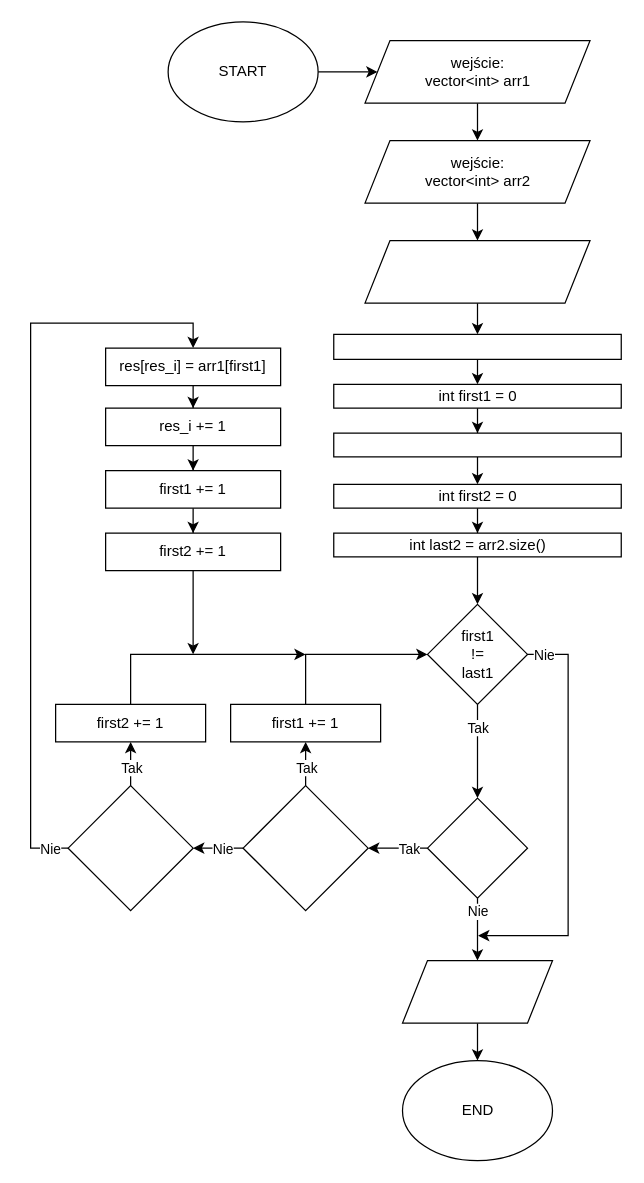
Some shapes in this 644 by 1183 pixel diagram are drawn without their labels. The shapes that lost their labels are listed below. From the top down, each one's centre as x and y in pixels, then its label:
point 477,271: wejście: vector<int>::iterator res
point 476,346: int res_i = 0
point 476,444: int last1 = arr1.size()
point 130,847: arr2[first2] < arr1[first1]
point 305,847: arr1[first1] < arr2[first2]
point 477,847: first2 != last2
point 476,991: wyjście: res_i
